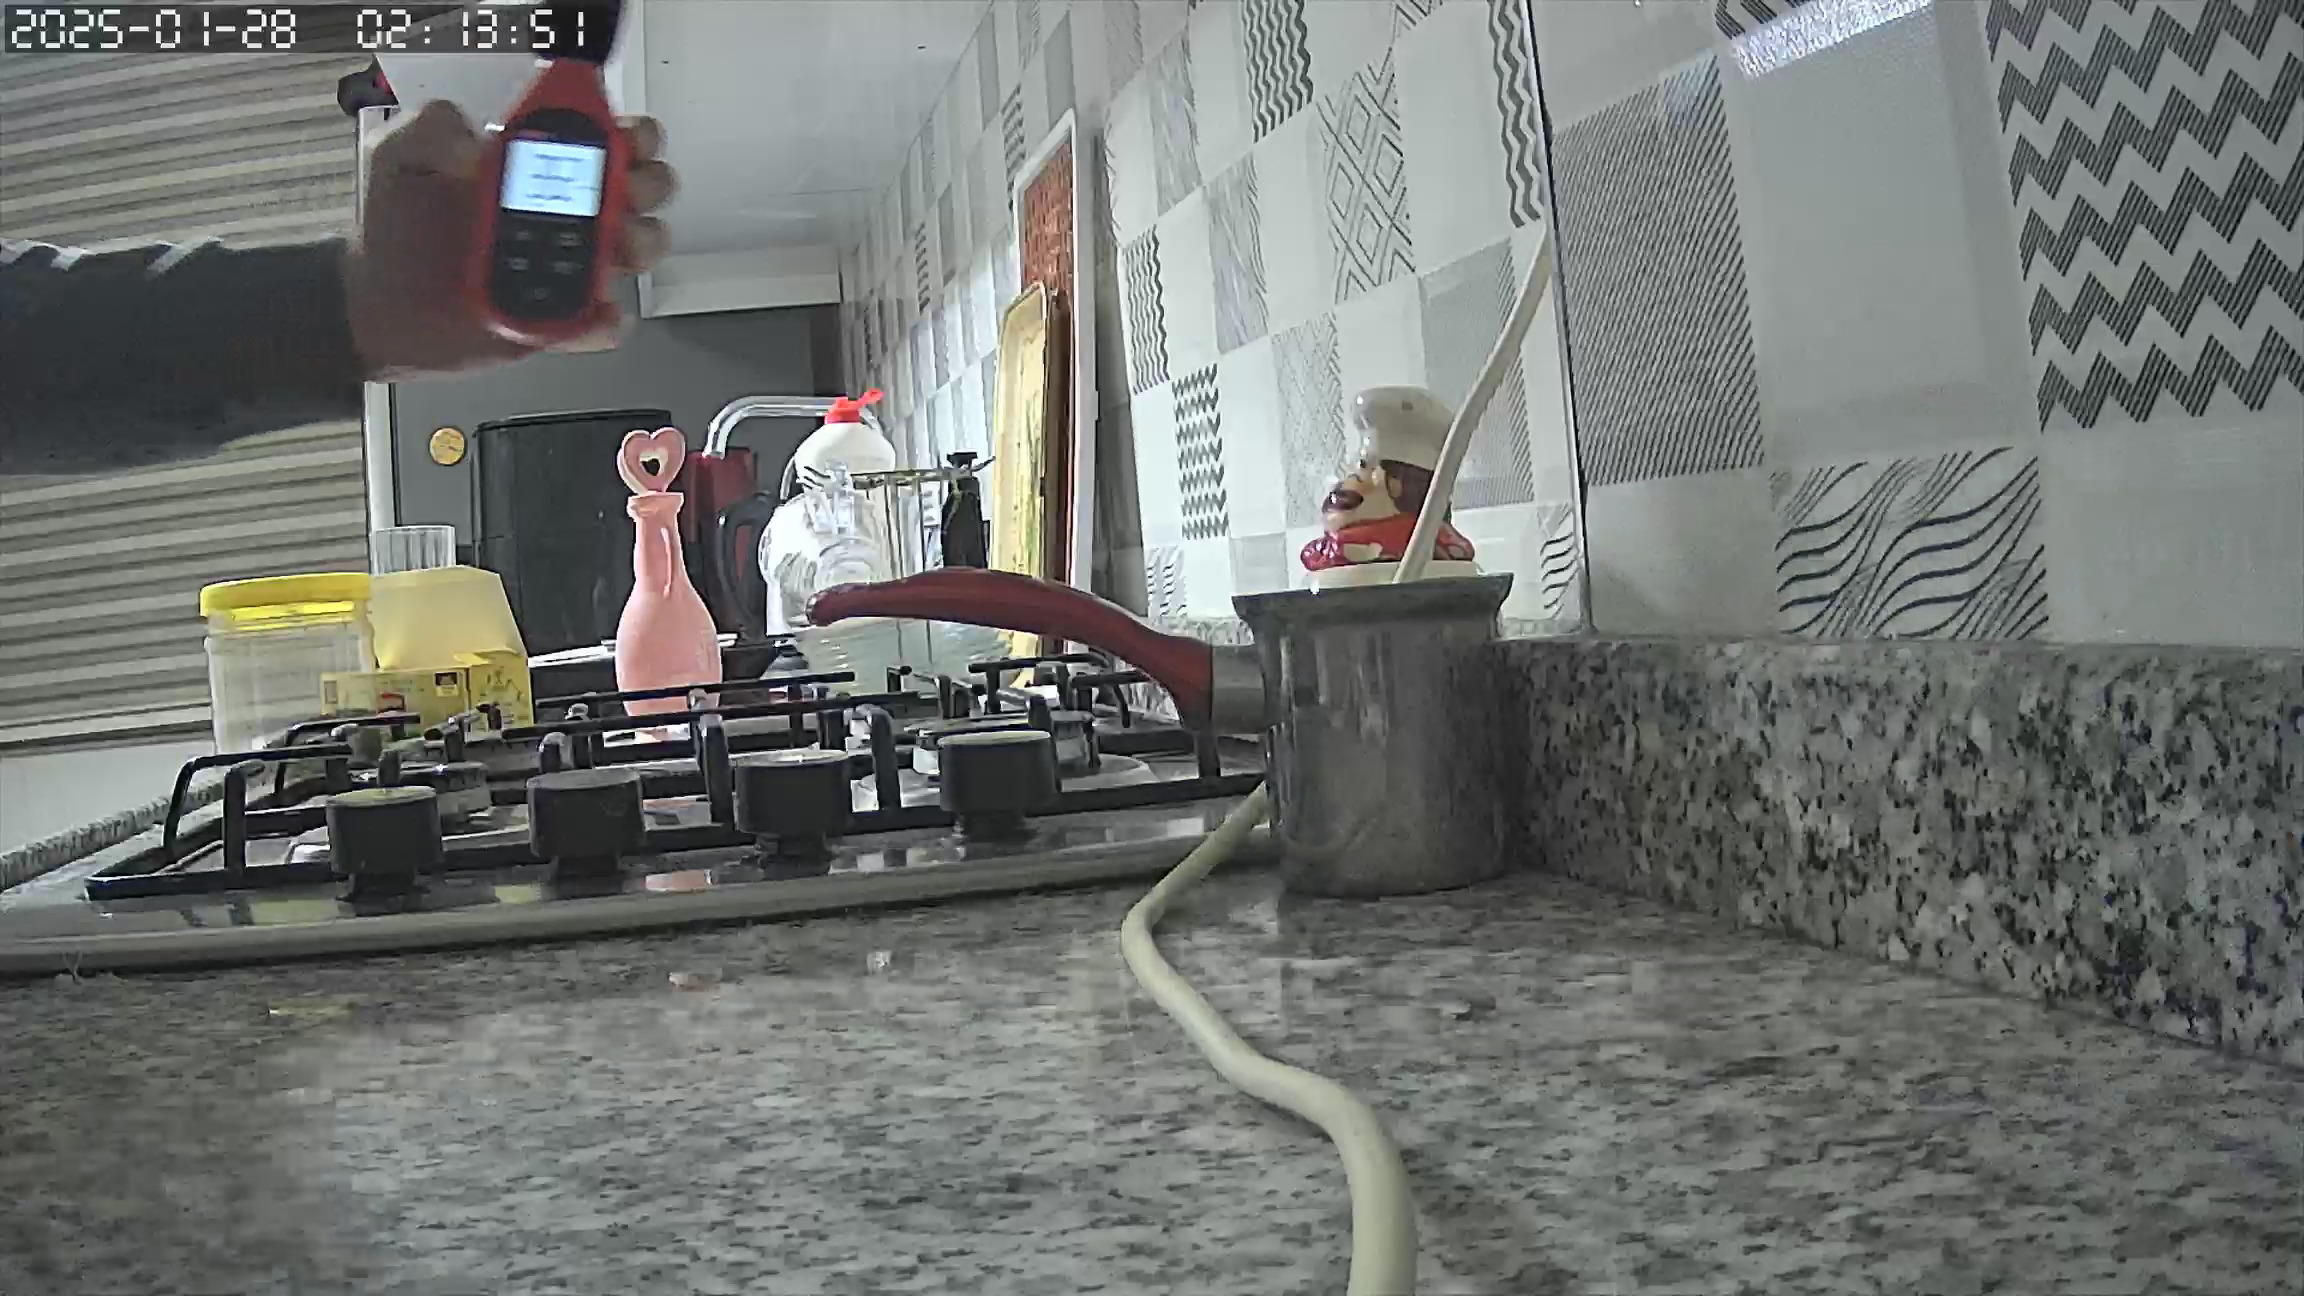screen: (498, 142, 604, 214)
